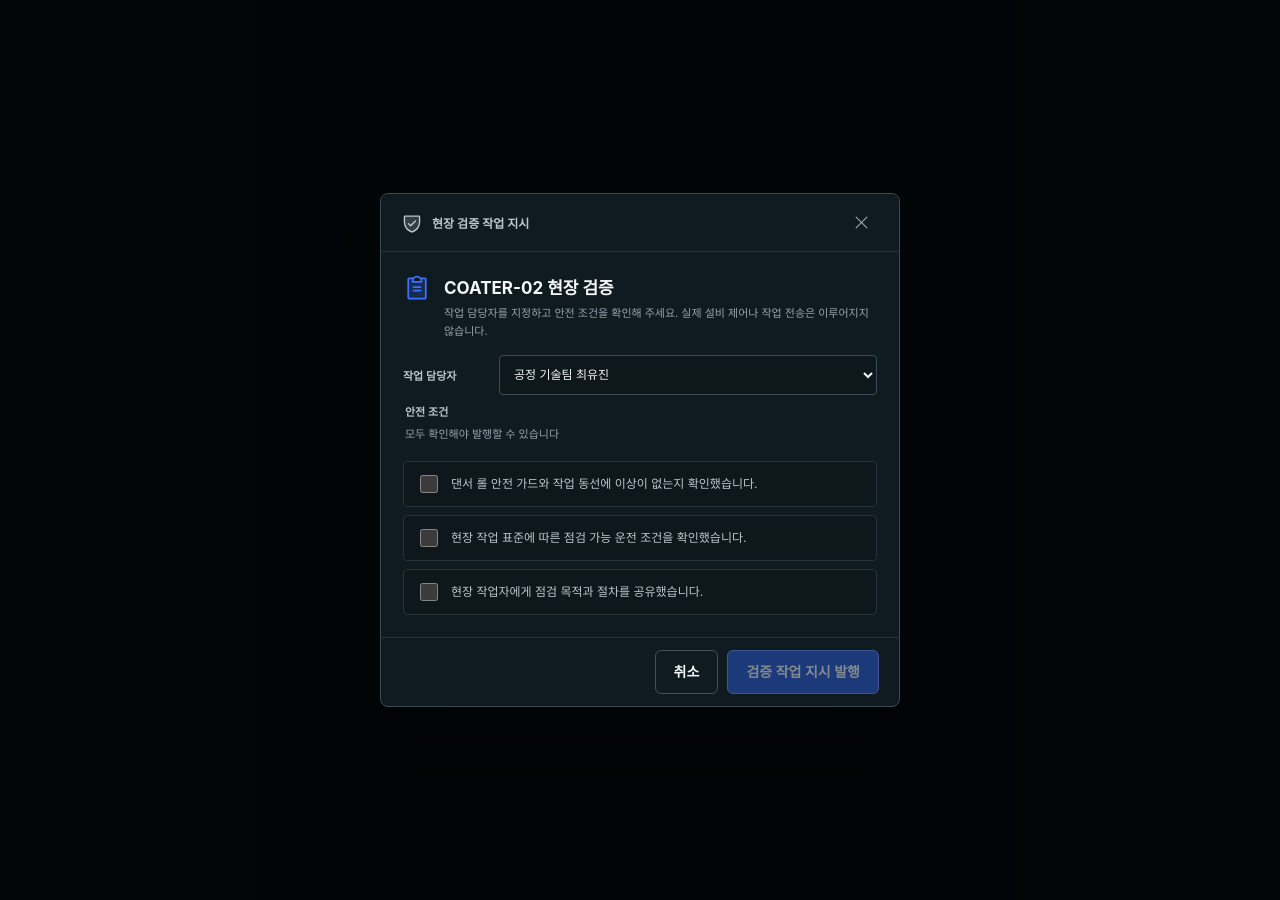
verification role workflow › discards a canceled draft and issues to the saved assignee after reopening
This screenshot has width=1280, height=900.
Select "코팅 2호 라인 정다은" in the dropdown labelled "작업 담당자": {"x": 688, "y": 375} [499,355,877,395]
Click the checkbox labelled "댄서 롤 안전 가드와 작업 동선에 이상이 없는지 확인했습니다.": {"x": 429, "y": 484} [420,475,438,493]
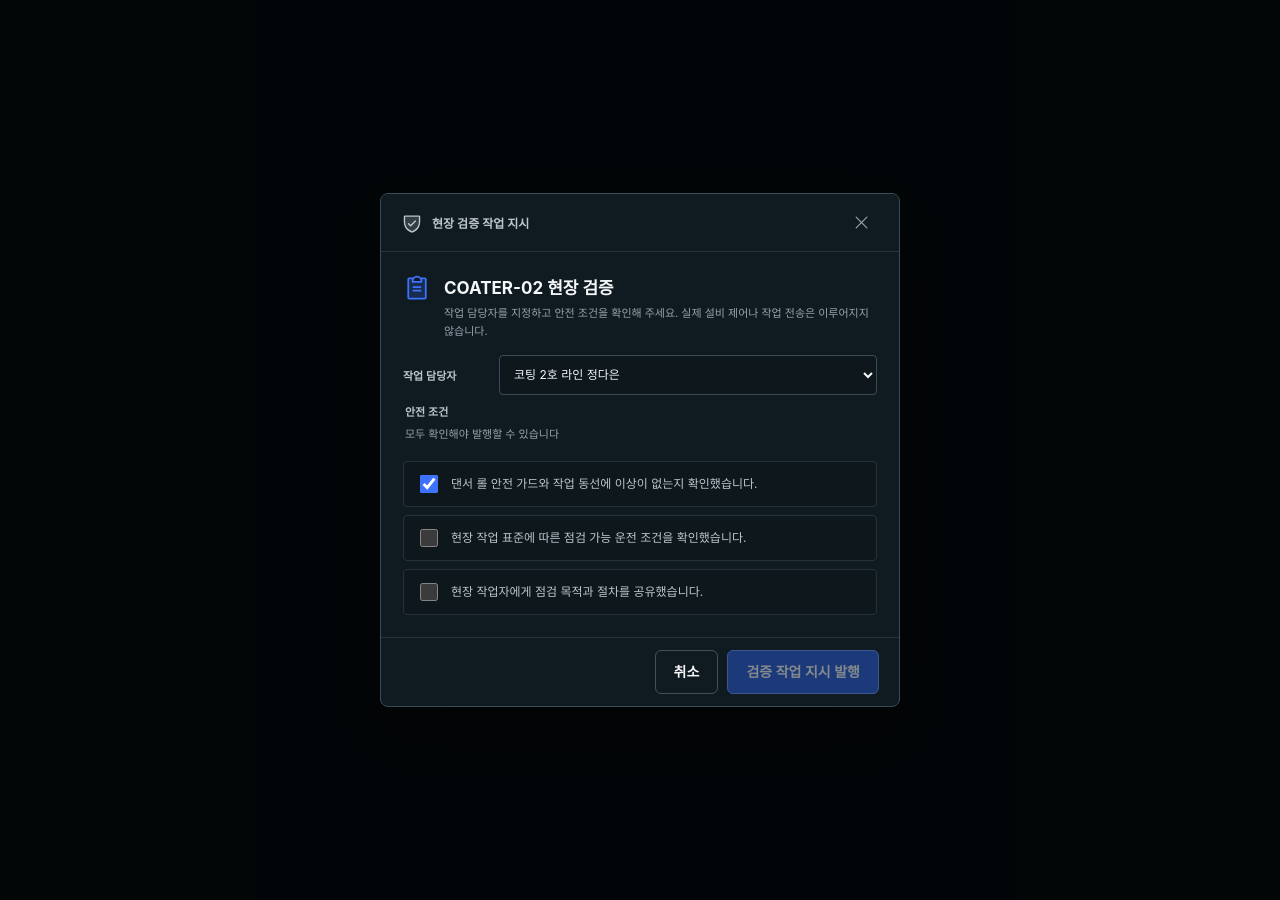
Click the button "취소": {"x": 686, "y": 672} [655,650,718,694]
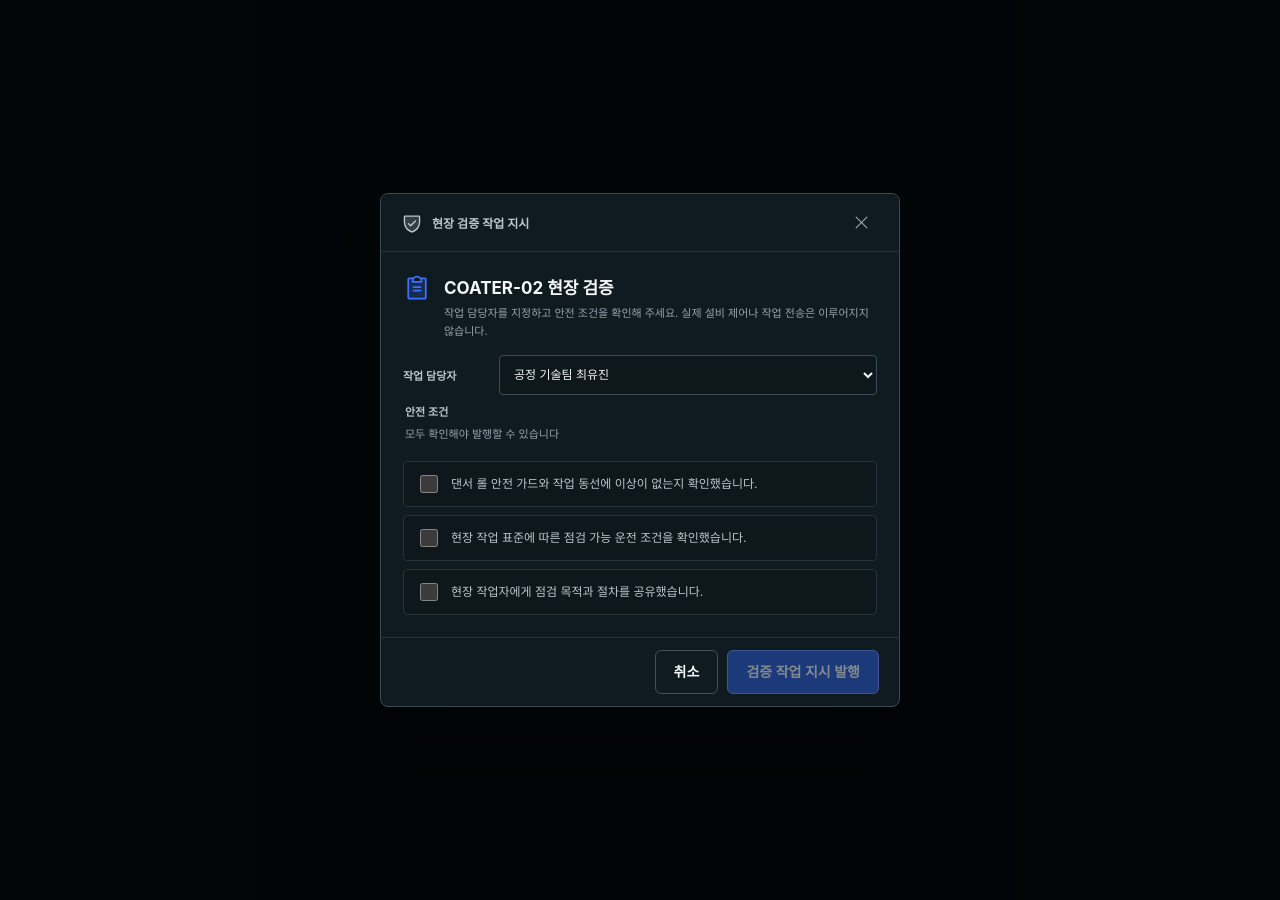
Expected: the checkbox labelled "현장 작업 표준에 따른 점검 가능 운전 조건을 확인했습니다." is not checked, [420,529,438,547]
Expected: the dropdown labelled "작업 담당자" shows "공정 기술팀 최유진", [499,355,877,395]
Expected: the checkbox labelled "댄서 롤 안전 가드와 작업 동선에 이상이 없는지 확인했습니다." is not checked
Click the checkbox labelled "댄서 롤 안전 가드와 작업 동선에 이상이 없는지 확인했습니다.": {"x": 429, "y": 484} [420,475,438,493]
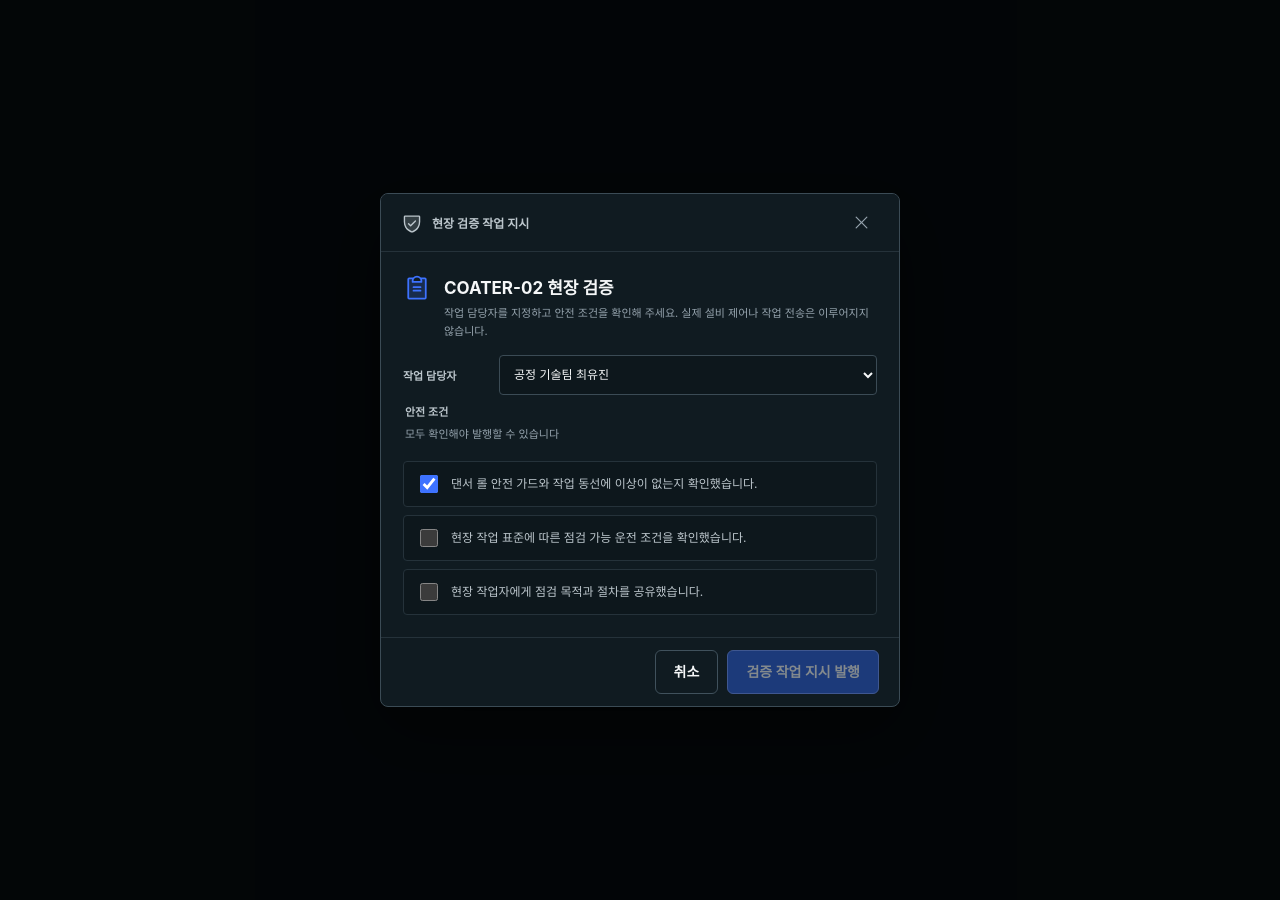
Click the checkbox labelled "현장 작업 표준에 따른 점검 가능 운전 조건을 확인했습니다.": {"x": 429, "y": 538} [420,529,438,547]
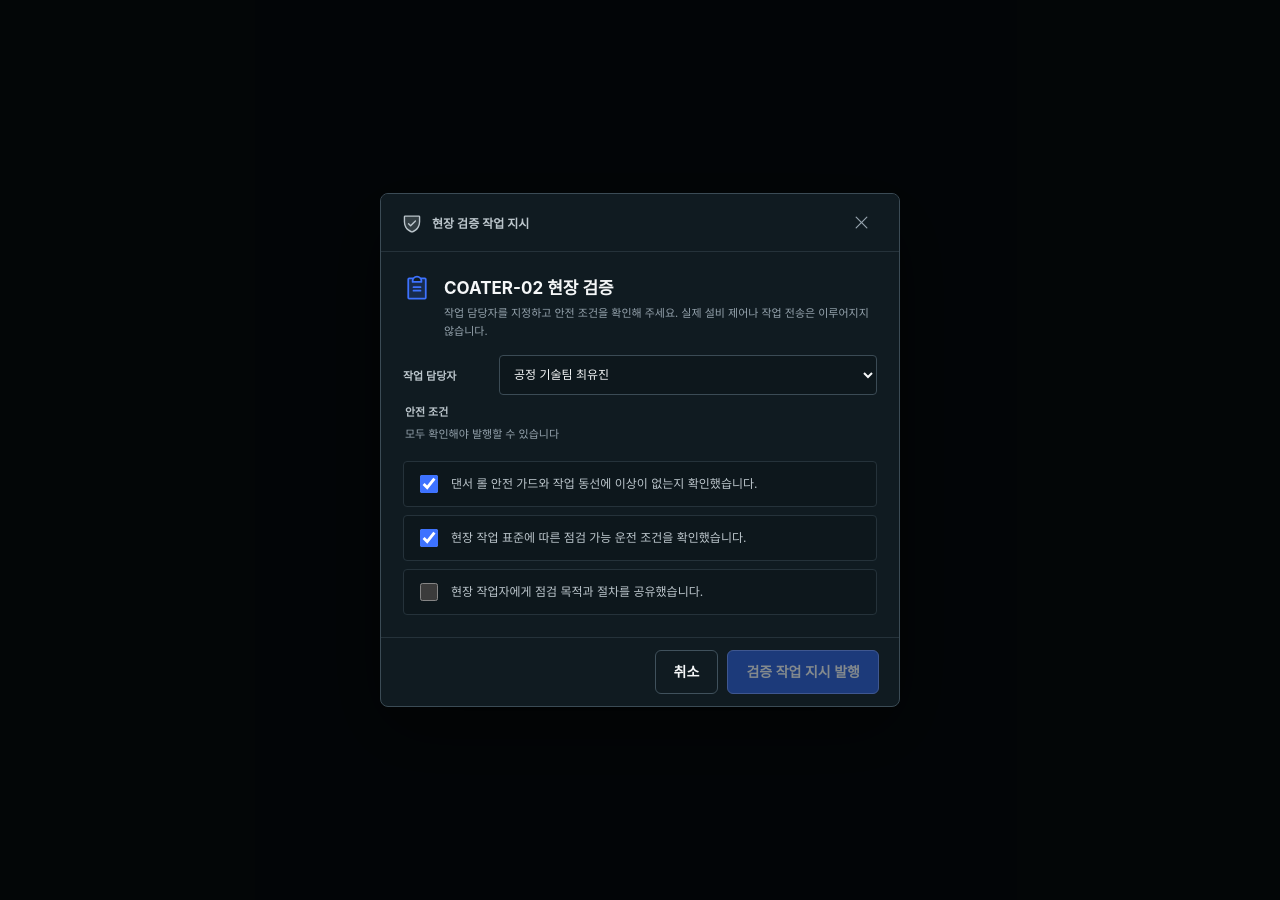
Click the checkbox labelled "현장 작업자에게 점검 목적과 절차를 공유했습니다.": {"x": 429, "y": 592} [420,583,438,601]
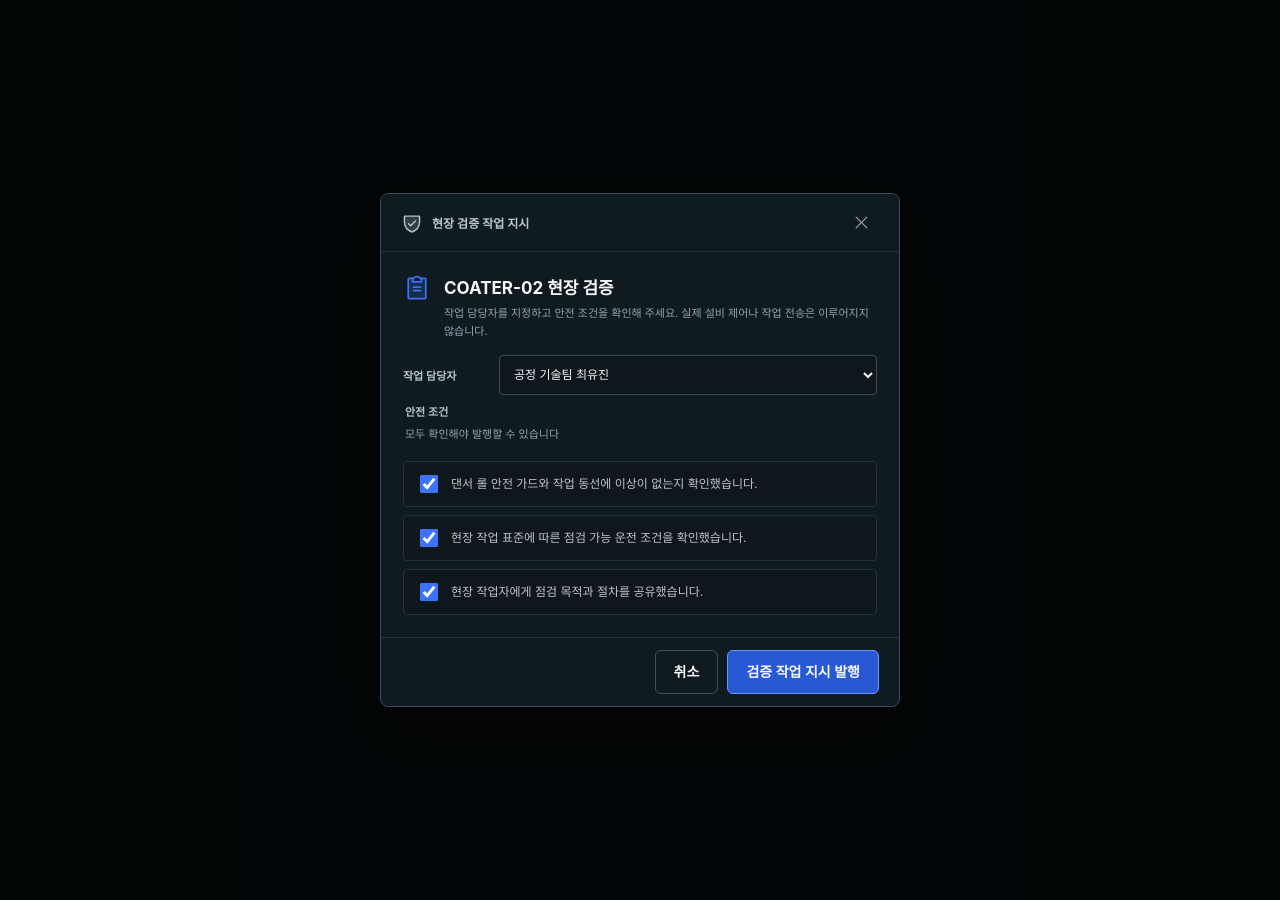
Click the button "검증 작업 지시 발행": {"x": 803, "y": 672} [727,650,879,694]
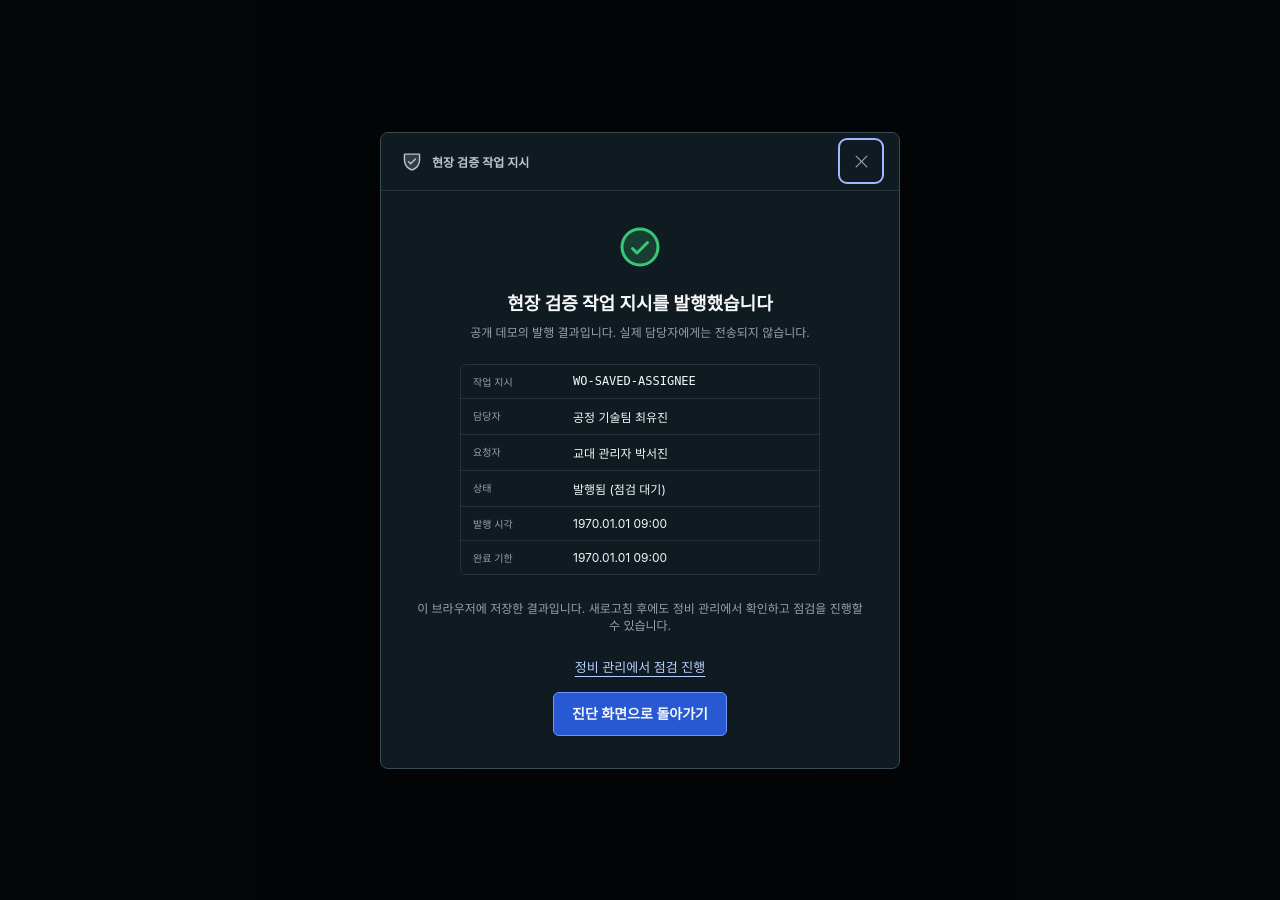
Expected: the element with test id "verification-success" is shown, [381,190,899,768]
Expected: the text "공정 기술팀 최유진" is shown, [573,410,668,424]
